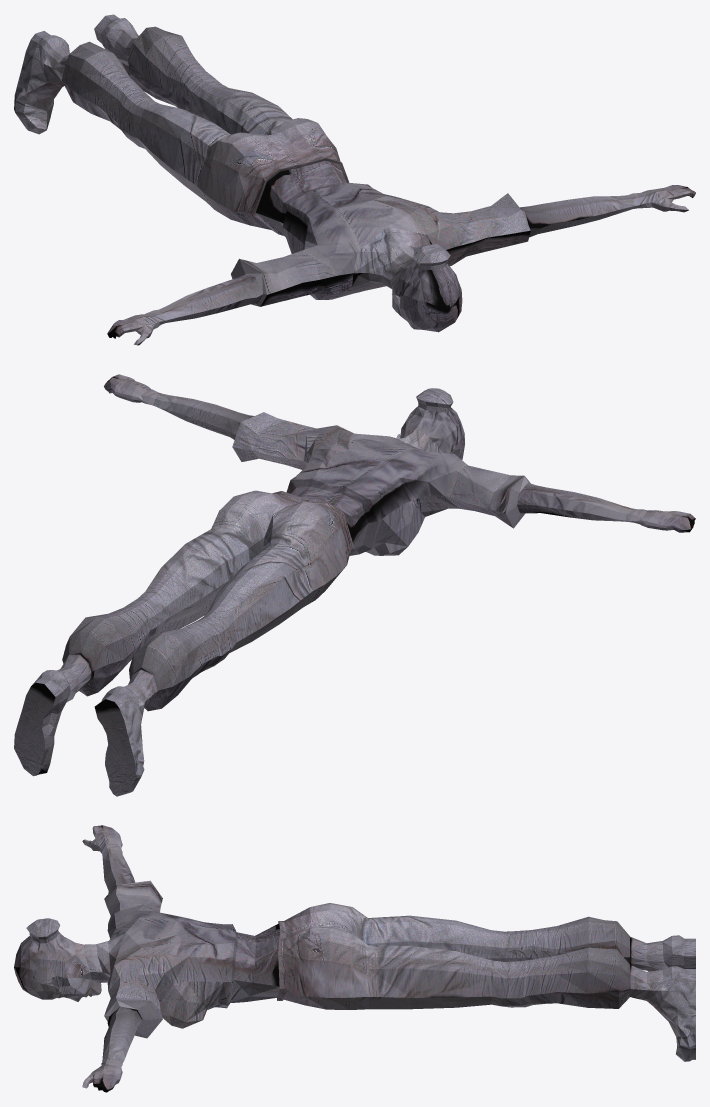
File: jacky_orig_wtf.obj
3 views of the same model, one above another, from view 1: azimuth 30°, elevation 25°; view 2: azimuth 150°, elevation 25°; view 3: azimuth 270°, elevation 25° (orthographic). The views are drawn at different scales.
Parts seen in each view (by area): view 1: group3, group1, group2, group4; view 2: group3, group1, group2, group4; view 3: group3, group1, group4, group2.
Part boxes in pixels (box(x1,y1,x2,y2)): group3: box(62, 26, 349, 235); group1: box(14, 14, 530, 306); group2: box(107, 185, 695, 345); group4: box(352, 227, 462, 332); group3: box(62, 490, 354, 711); group1: box(14, 412, 530, 796); group2: box(104, 374, 695, 532); group4: box(391, 388, 464, 459); group3: box(277, 903, 629, 1009); group1: box(104, 880, 695, 1061); group4: box(14, 918, 125, 1001); group2: box(82, 825, 142, 1092).
Bounding box in the file's own units: 596 × 133 × 660.
